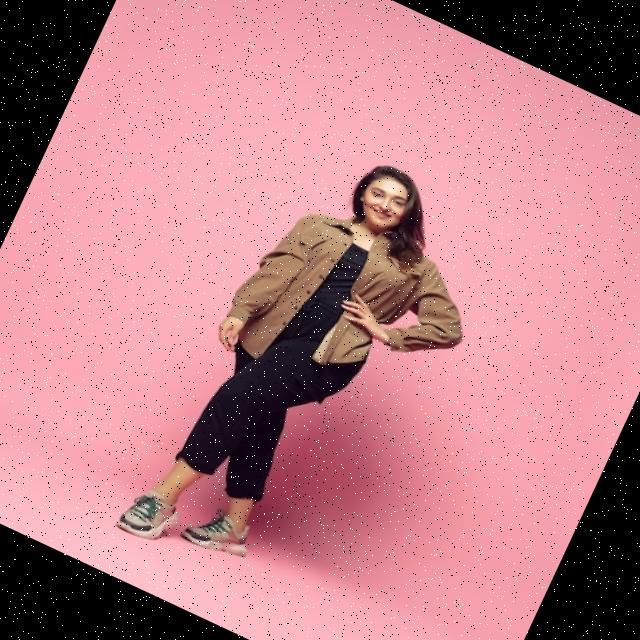Person: (112, 124, 516, 628)
